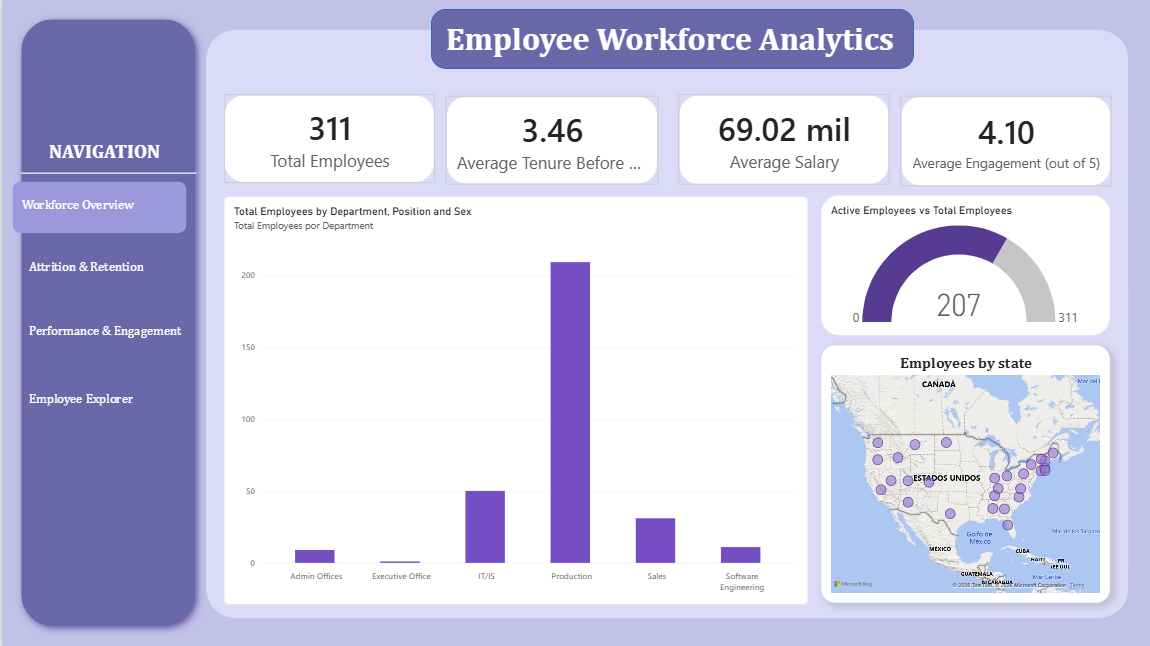

This screenshot's page, from the dashboard's own definition file:
{"tool":"powerbi","page":{"name":"Workforce Overview","canvas":[1920,1080],"ordinal":0},"visuals":[{"type":"shape","box":[15.7,15.7,324.3,1045.7],"z":0},{"type":"textbox","box":[74,232,192,56],"z":1000},{"type":"shape","box":[31.4,274.3,291.4,27.1],"z":2000},{"type":"shape","box":[18.6,301.4,290,85.7],"z":3000},{"type":"textbox","box":[32.5,327.5,214,34],"z":4000},{"type":"actionButton","box":[31.4,401.4,291.4,84.3],"z":5000},{"type":"actionButton","box":[31.4,510,291.4,84.3],"z":6000},{"type":"actionButton","box":[32.9,621.4,291.4,84.3],"z":7000},{"type":"shape","box":[340,50,1537.5,980],"z":8000},{"type":"shape","box":[715,15,805,100],"z":9000},{"type":"textbox","box":[740,32.5,755,82.5],"z":10000},{"type":"map","title":"Employees by state","fields":{"Category":["HRDataset_v14.State Full Name"]},"box":[1364,574,482,430],"z":11000},{"type":"cardVisual","fields":{"Data":["HRDataset_v14.Total Employees"]},"box":[370,157.8,351.1,147.8],"z":12000},{"type":"gauge","title":"Active Employees vs Total Employees","fields":{"MaxValue":["HRDataset_v14.Total Employees"],"Y":["HRDataset_v14.Active Employees"]},"box":[1364,326,482,234],"z":13000},{"type":"cardVisual","fields":{"Data":["HRDataset_v14.Average Tenure"]},"box":[740,160,353.3,147.8],"z":14000},{"type":"cardVisual","fields":{"Data":["HRDataset_v14.Average Salary"]},"box":[1127.1,157.1,351.1,150],"z":15000},{"type":"cardVisual","fields":{"Data":["HRDataset_v14.Average Engagement"]},"box":[1497.1,160,351.1,150],"z":16000},{"type":"clusteredColumnChart","title":"Total Employees by Department, Position and Sex","fields":{"Category":["HRDataset_v14.Department","HRDataset_v14.Position","HRDataset_v14.Sex"],"Y":["HRDataset_v14.Total Employees"]},"box":[370,326.7,973.3,680],"z":17000}]}

Visuals, with their boxes in screenshot pixels (x1, y1, x2, y2), scaled from the page's 1920x1080 canvas onto the 1150x646 screenshot:
shape: (9, 9, 204, 635)
textbox: (44, 139, 159, 172)
shape: (19, 164, 193, 180)
shape: (11, 180, 185, 232)
textbox: (19, 196, 148, 216)
actionButton: (19, 240, 193, 291)
actionButton: (19, 305, 193, 355)
actionButton: (20, 372, 194, 422)
shape: (204, 30, 1125, 616)
shape: (428, 9, 910, 69)
textbox: (443, 19, 895, 69)
"Employees by state" map: (817, 343, 1106, 601)
cardVisual - HRDataset_v14.Total Employees: (222, 94, 432, 183)
"Active Employees vs Total Employees" gauge: (817, 195, 1106, 335)
cardVisual - HRDataset_v14.Average Tenure: (443, 96, 655, 184)
cardVisual - HRDataset_v14.Average Salary: (675, 94, 885, 184)
cardVisual - HRDataset_v14.Average Engagement: (897, 96, 1107, 185)
"Total Employees by Department, Position and Sex" clusteredColumnChart: (222, 195, 805, 602)
